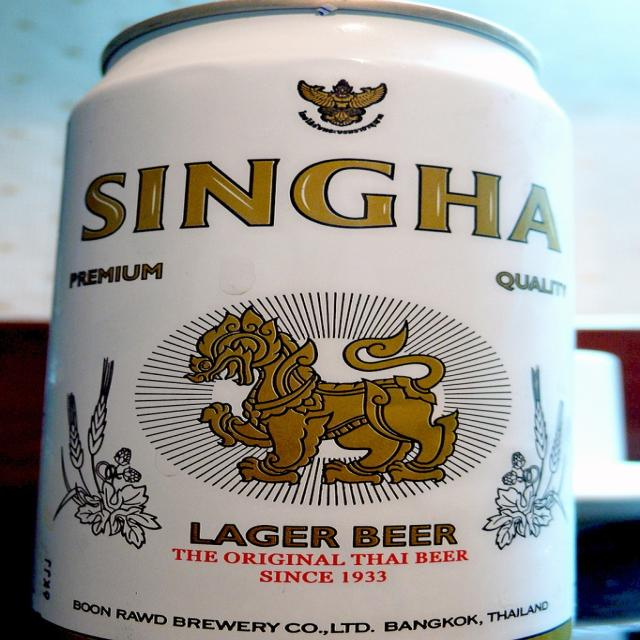singha: (36, 153, 578, 594)
